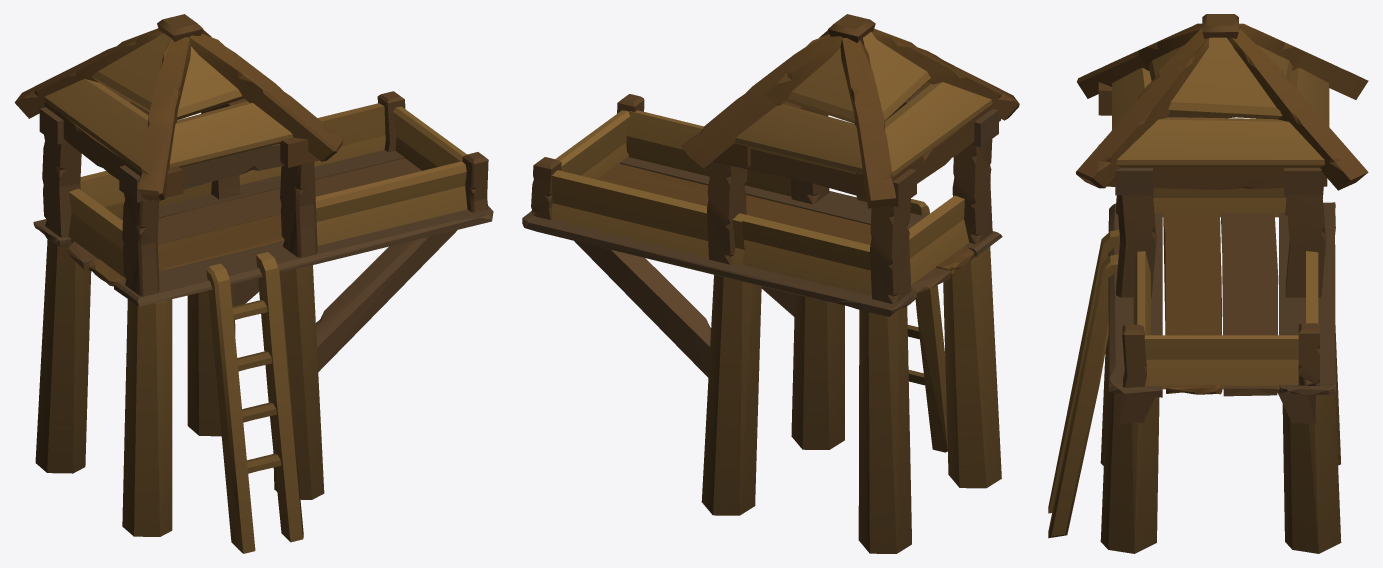
Rendered from Tower2.fbx.
3 views of the same model, side by side, from view 1: azimuth 30°, elevation 25°; view 2: azimuth 150°, elevation 25°; view 3: azimuth 270°, elevation 25° (orthographic). The views are drawn at different scales.
Visible parts, largest first — view 1: TowerFix; view 2: TowerFix; view 3: TowerFix.
Boxes of the visible parts, <box> form: TowerFix: <box>14,14,493,553</box>; TowerFix: <box>522,14,1019,553</box>; TowerFix: <box>1048,14,1368,553</box>.
Size of the model in its own units: 694 by 831 by 485.
